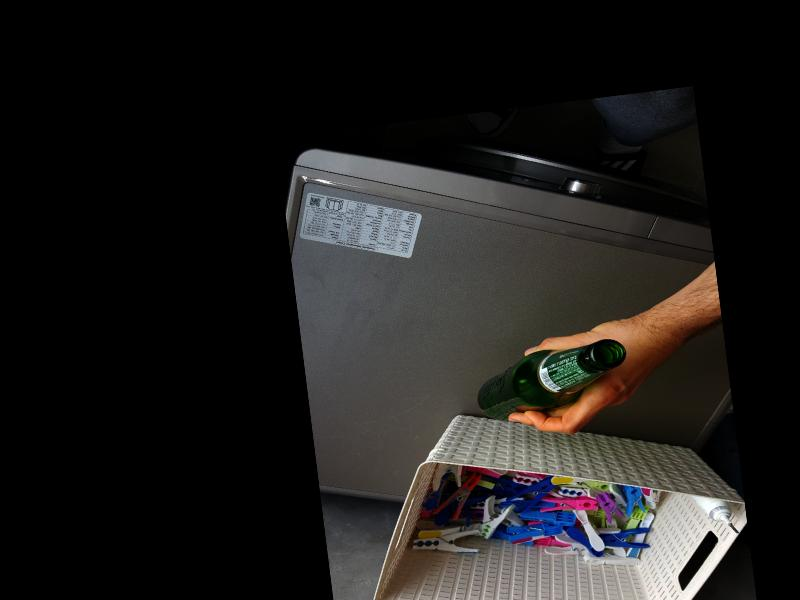Beer: (473, 336, 632, 426)
